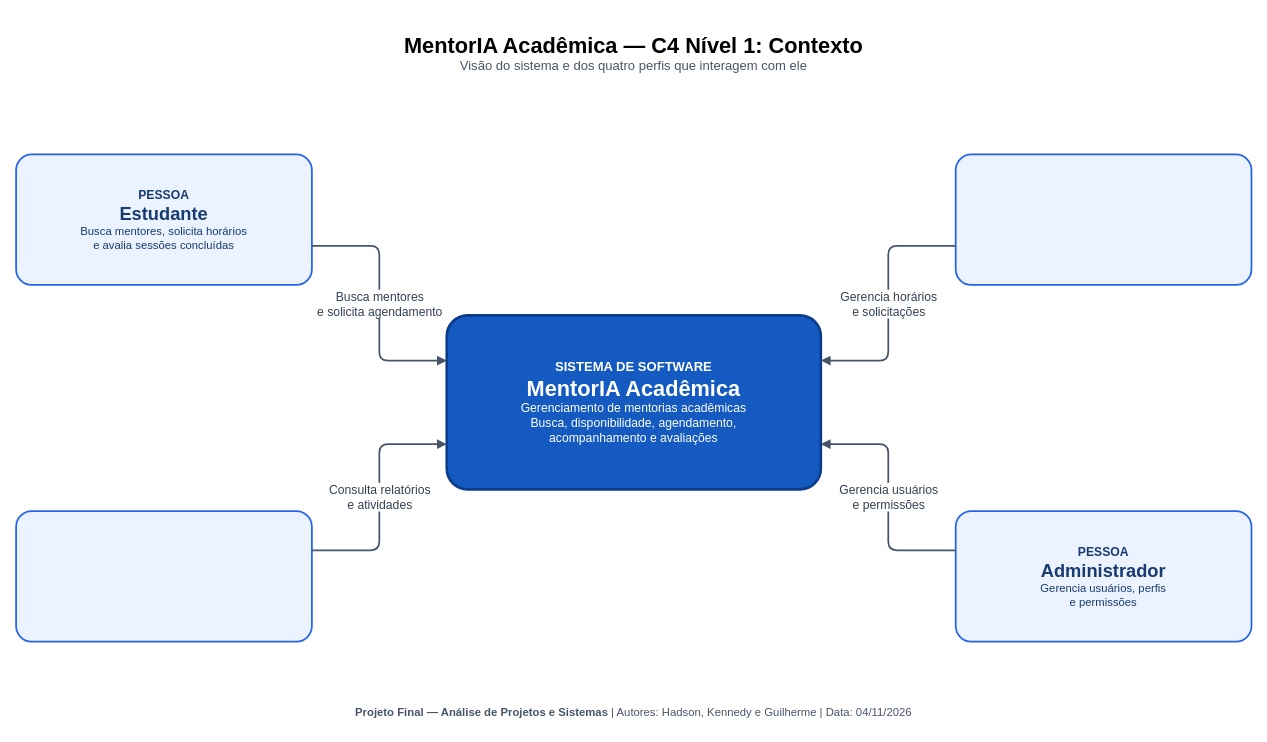
Some shapes in this 1267 by 742 pixel diagram are drawn without their labels. The centre of each missing label's shape, as x and y in pixels:
"PESSOA Coordenador Acompanha atividades e consulta relatórios" belongs at point 163,576.
"PESSOA Mentor Disponibiliza horários, confirma ou recusa solicitações" belongs at point 1103,219.
